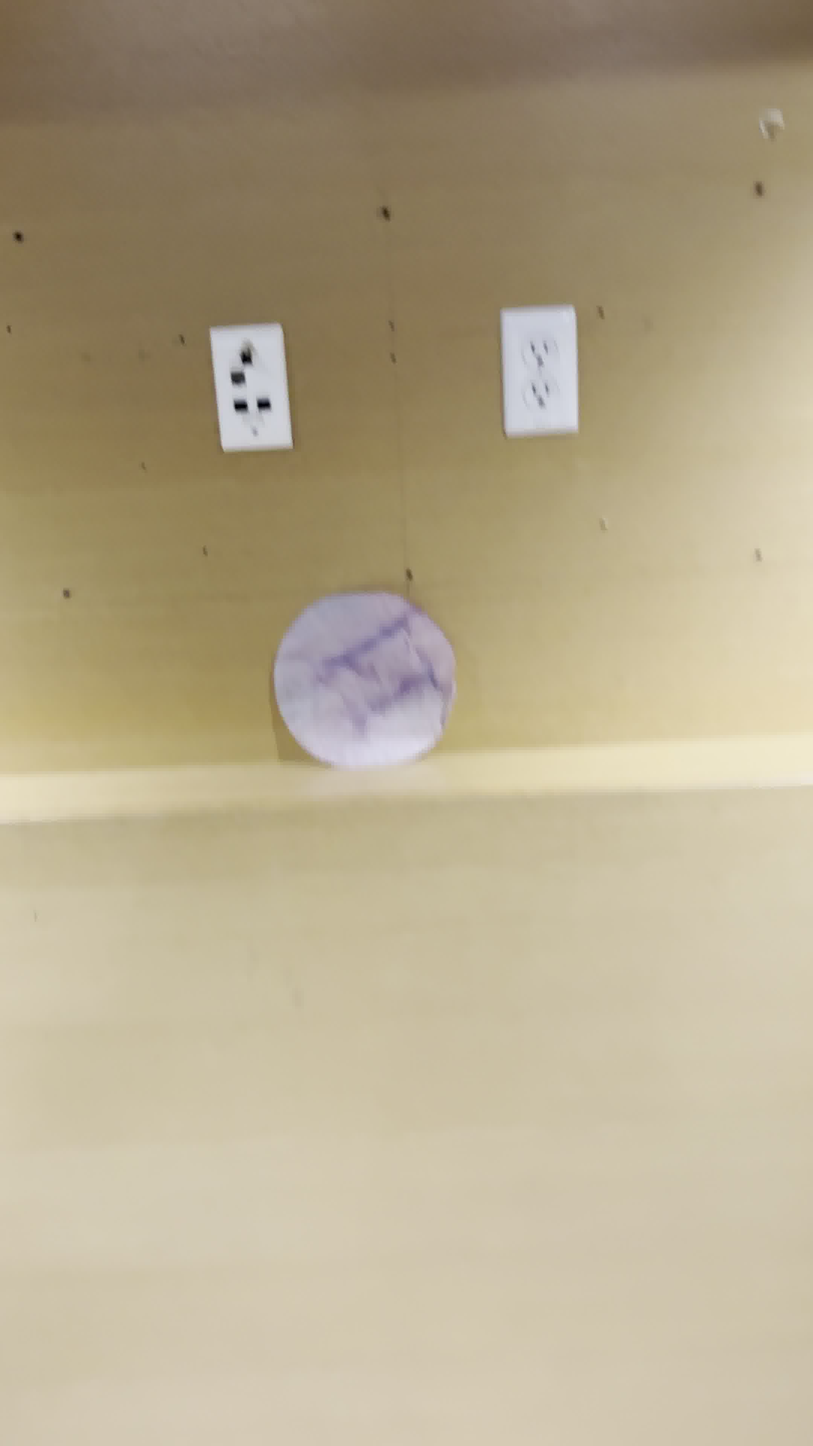Target: (271, 591, 456, 770)
